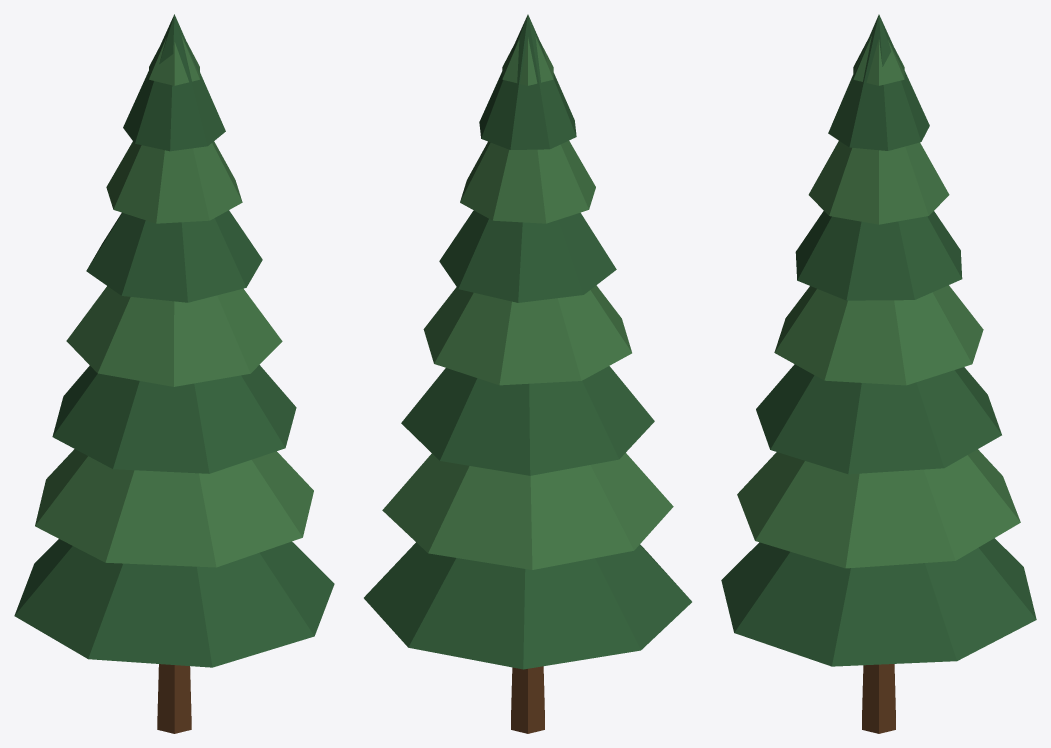
Rendered from Pine_Tall.fbx.
3 views of the same model, side by side, from view 1: azimuth 30°, elevation 25°; view 2: azimuth 150°, elevation 25°; view 3: azimuth 270°, elevation 25° (orthographic).
Visible parts, largest first — view 1: Pine_Tall; view 2: Pine_Tall; view 3: Pine_Tall.
Part boxes in pixels (box(x1,y1,x2,y2)): Pine_Tall: box(14, 14, 334, 733); Pine_Tall: box(364, 14, 691, 733); Pine_Tall: box(721, 14, 1036, 733).
Bounding box in the file's own units: 3.64 × 9.06 × 3.64.
